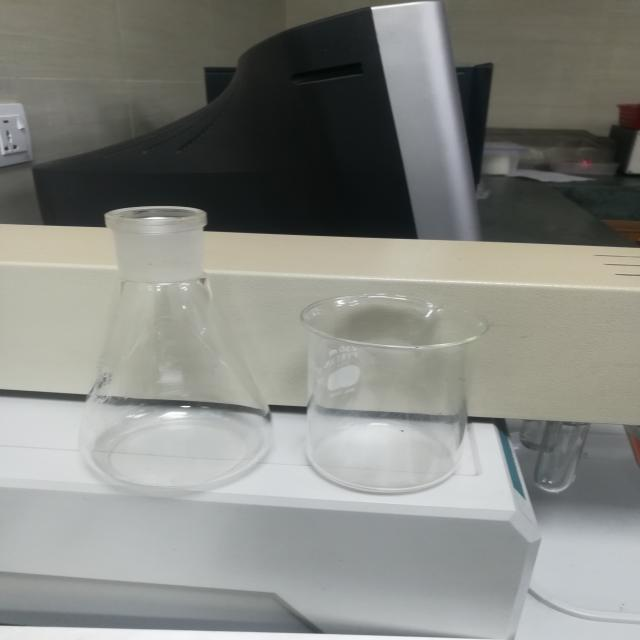Beaker: (284, 273, 514, 507)
Conical_Flask: (48, 179, 268, 502)
